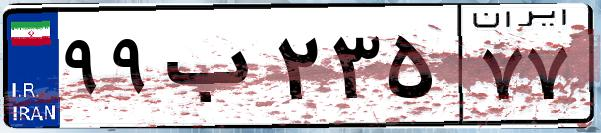2: (270, 28, 330, 110)
3: (330, 28, 385, 110)
5: (385, 28, 445, 110)
7: (475, 38, 525, 113), (525, 38, 570, 115)
9: (57, 26, 110, 100), (110, 28, 158, 98)
ب: (158, 20, 270, 120)
